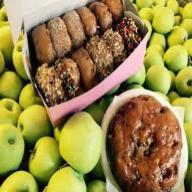apple: (60, 116, 100, 164), (16, 104, 50, 140), (26, 139, 60, 173), (51, 164, 88, 190), (142, 64, 170, 90), (1, 169, 33, 191), (163, 44, 189, 68), (1, 70, 22, 98), (154, 7, 174, 33), (20, 82, 40, 108), (166, 23, 186, 48), (1, 96, 20, 122), (144, 48, 164, 68)
